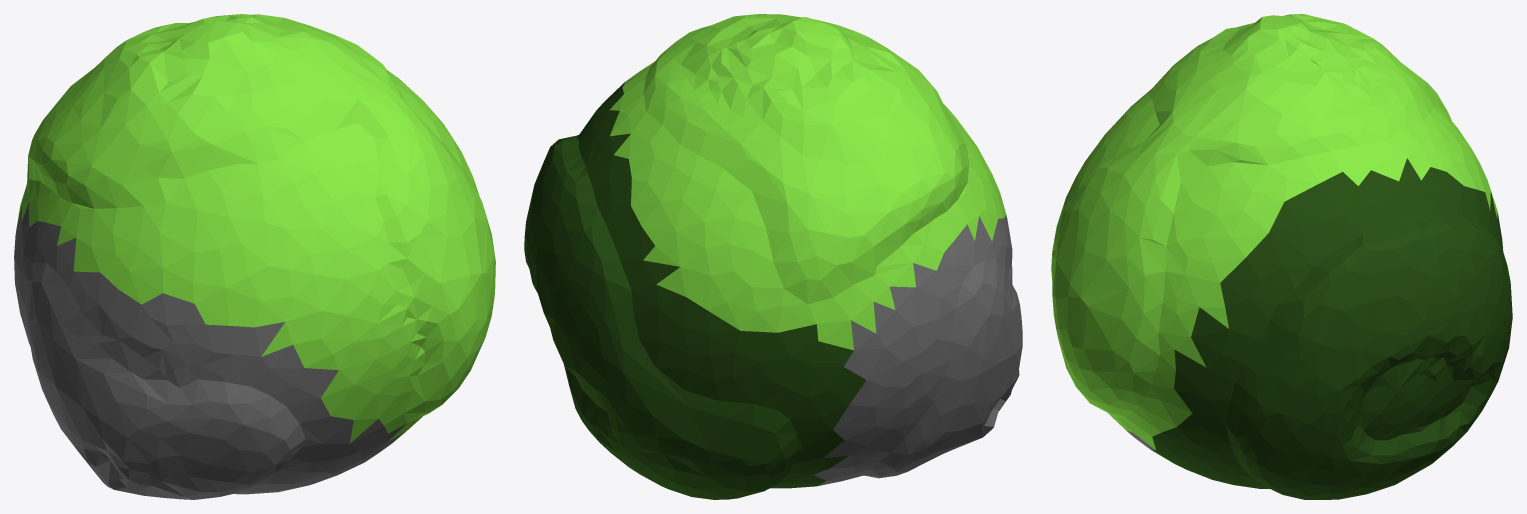
The model's file is PlaneteLowPoly.fbx.
3 views of the same model, side by side, from view 1: azimuth 30°, elevation 25°; view 2: azimuth 150°, elevation 25°; view 3: azimuth 270°, elevation 25° (orthographic). The views are drawn at different scales.
Visible parts, largest first — view 1: Icosphere; view 2: Icosphere; view 3: Icosphere.
Part boxes in pixels (left/top/right/bottom): Icosphere: left=14, top=14, right=495, bottom=499; Icosphere: left=524, top=14, right=1022, bottom=499; Icosphere: left=1051, top=14, right=1512, bottom=499.
Bounding box in the file's own units: 369 × 366 × 354.
